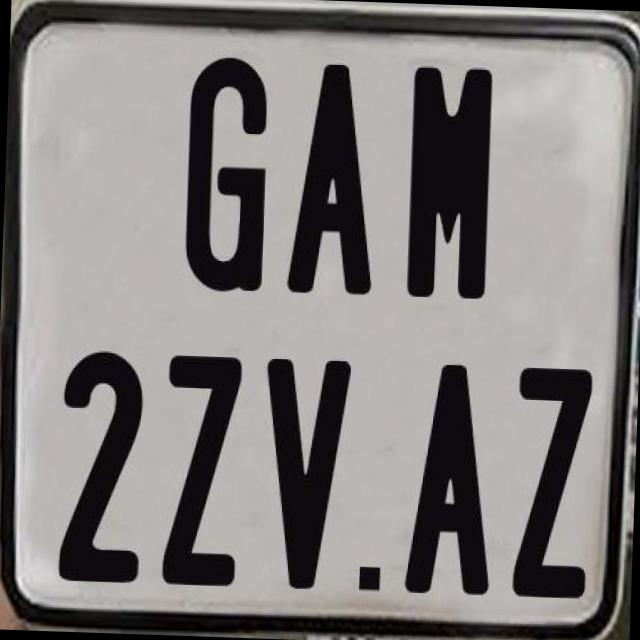2: (53, 346, 149, 589)
A: (401, 362, 496, 604), (282, 59, 374, 296)
G: (181, 52, 269, 292)
M: (402, 62, 488, 305)
V: (256, 356, 348, 593)
Z: (508, 362, 596, 594), (162, 350, 248, 584)
